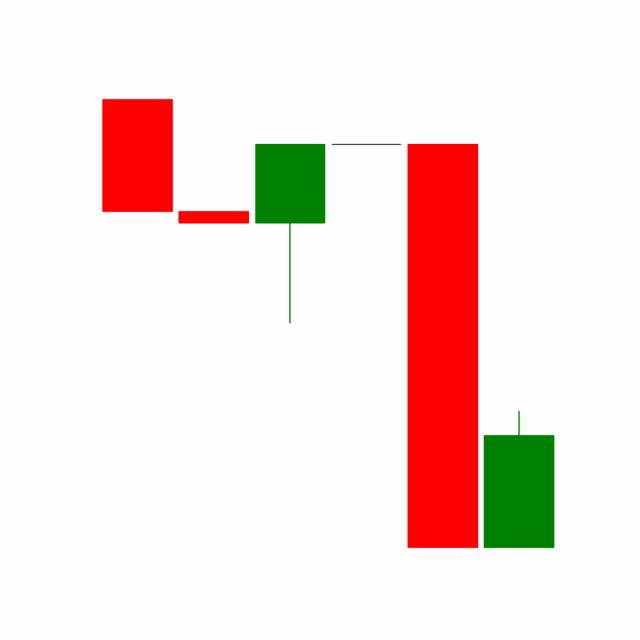Marubozu: (403, 139, 481, 552)
